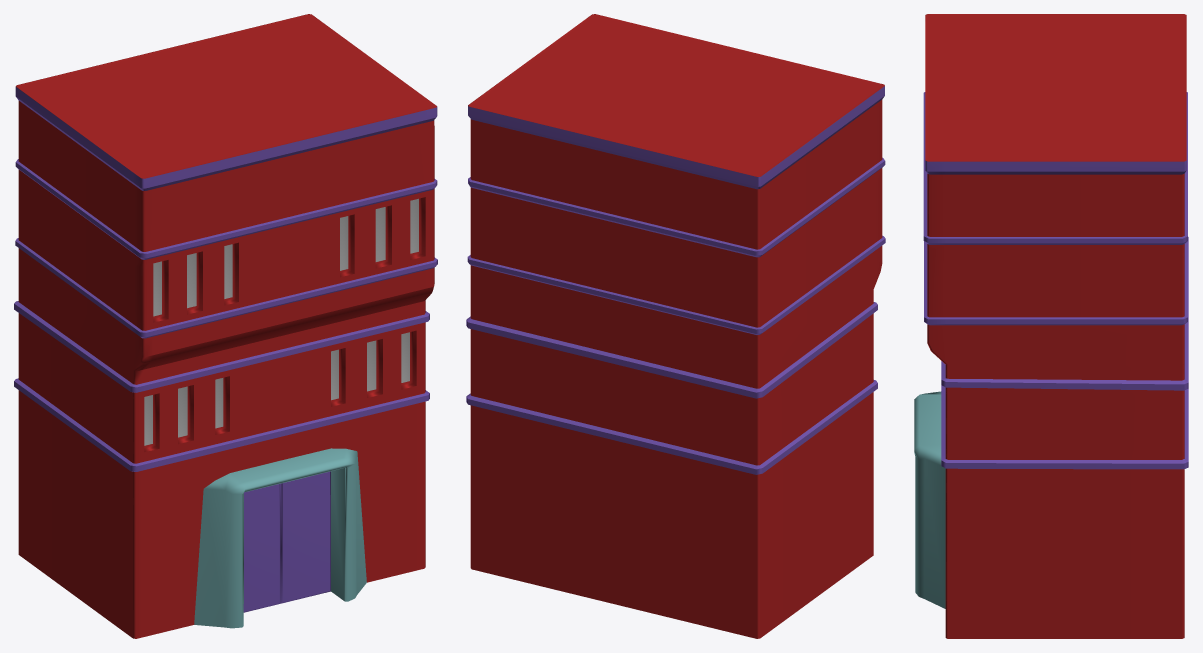
Rendered from SM_Building_Square_01.fbx.
The picture shows the model from 3 angles, left to right: view 1: azimuth 30°, elevation 25°; view 2: azimuth 150°, elevation 25°; view 3: azimuth 270°, elevation 25°; orthographic projection. The views are drawn at different scales.
Parts seen in each view (by area): view 1: SM_Building_Square_01; view 2: SM_Building_Square_01; view 3: SM_Building_Square_01.
Boxes of the visible parts, x1,y1,x2,y2 form: SM_Building_Square_01: (14, 14, 437, 638); SM_Building_Square_01: (466, 14, 885, 638); SM_Building_Square_01: (914, 14, 1188, 638).
Size of the model in its own units: 1382 by 2062 by 1073.
